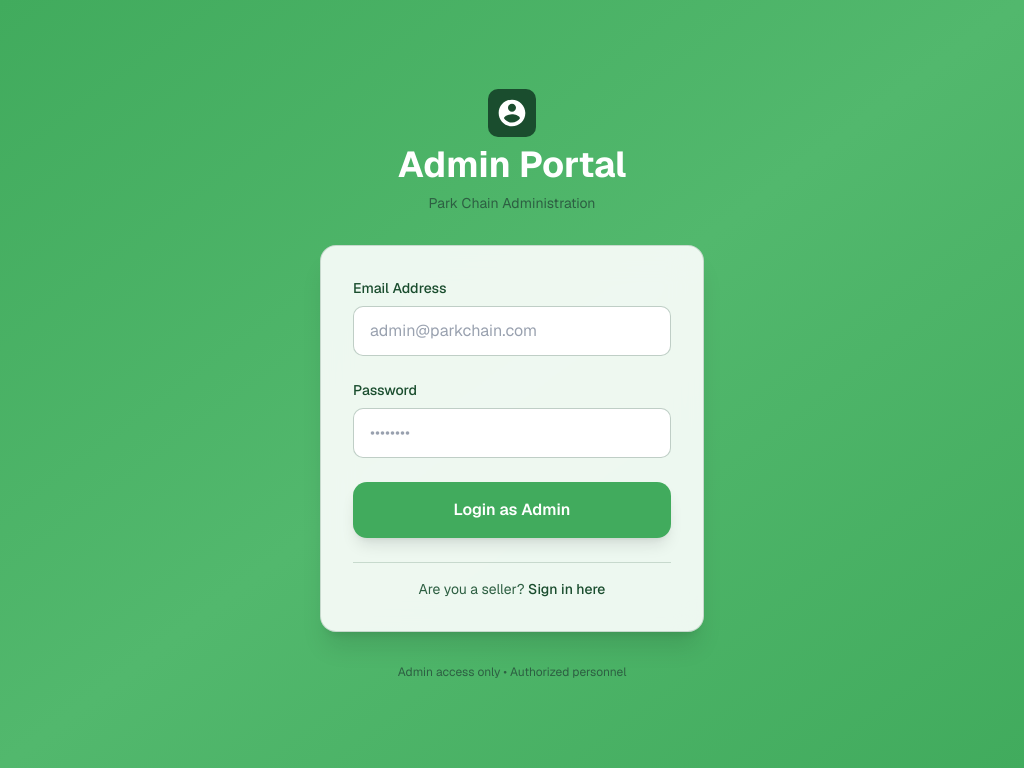
Admin Login Component › shows an error message when login fails
Type "wrong@admin.com" into the field with placeholder "admin@parkchain.com".
click(512, 330); type("wrong@admin.com")  # box [353,306,671,356]
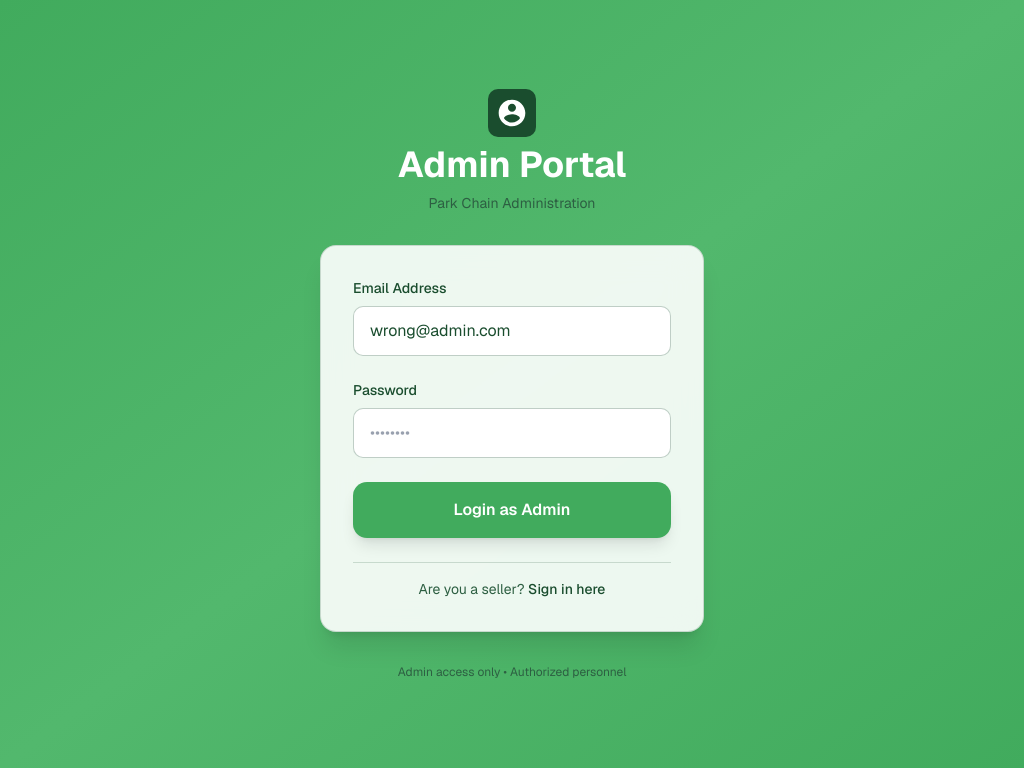
Type "wrongpass" into the password field with placeholder "••••••••".
click(512, 432); type("wrongpass")  # box [353,408,671,458]
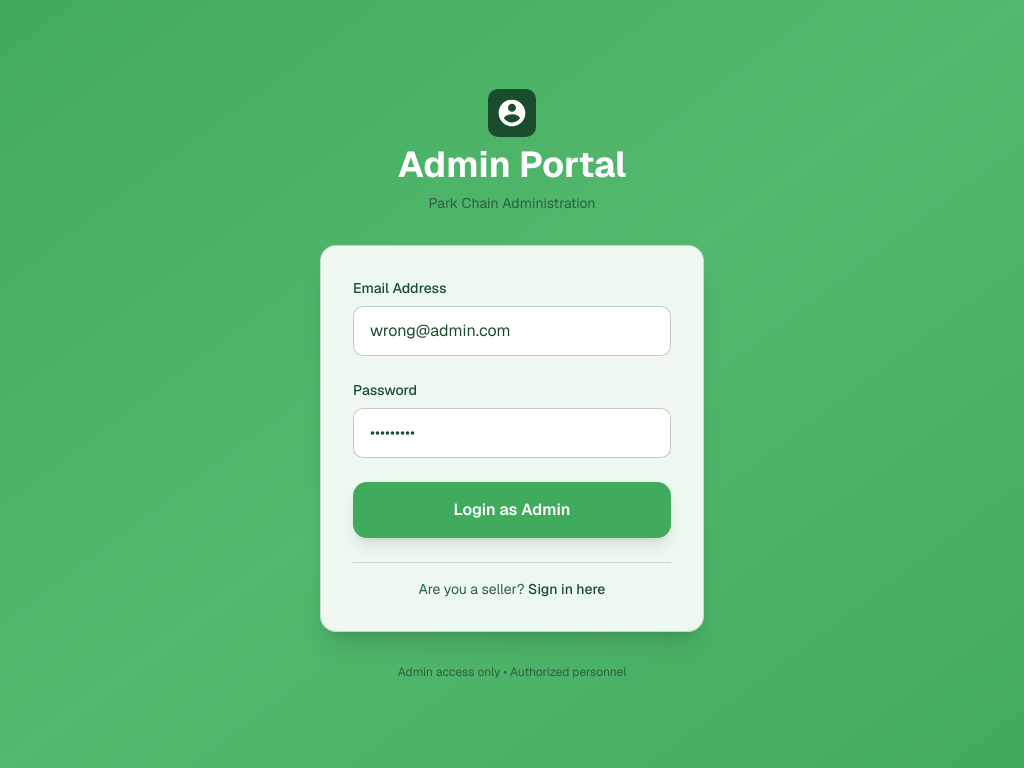
Click the button "Login as Admin".
click(512, 510)  # box [353,482,671,538]
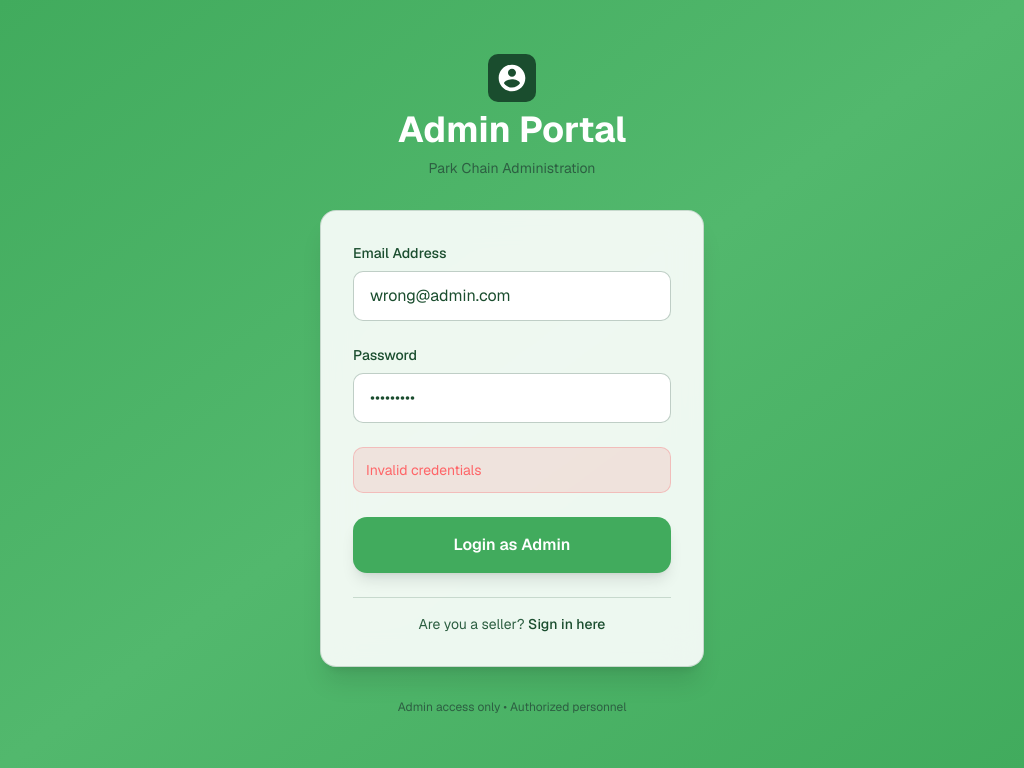
expect the text "Invalid credentials" is shown: met, box [366,460,482,478]
